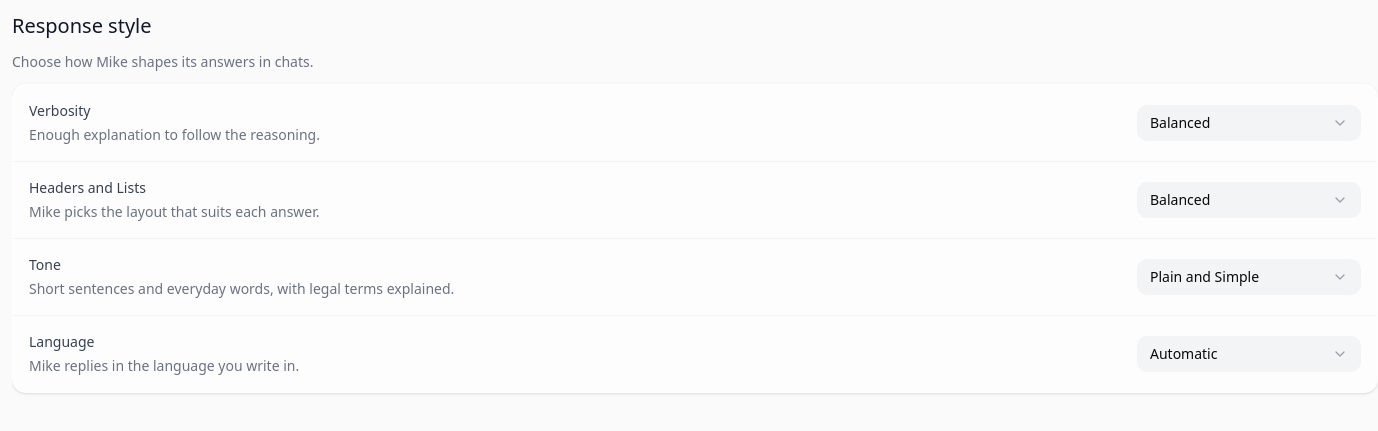
ResponseStyleSection › reverts and explains a failed save on that setting only
This screenshot has width=1378, height=431.
Step 1. Press the mouse on the button with aria-label "Verbosity" → (1249, 123), box [1137,105,1361,141]
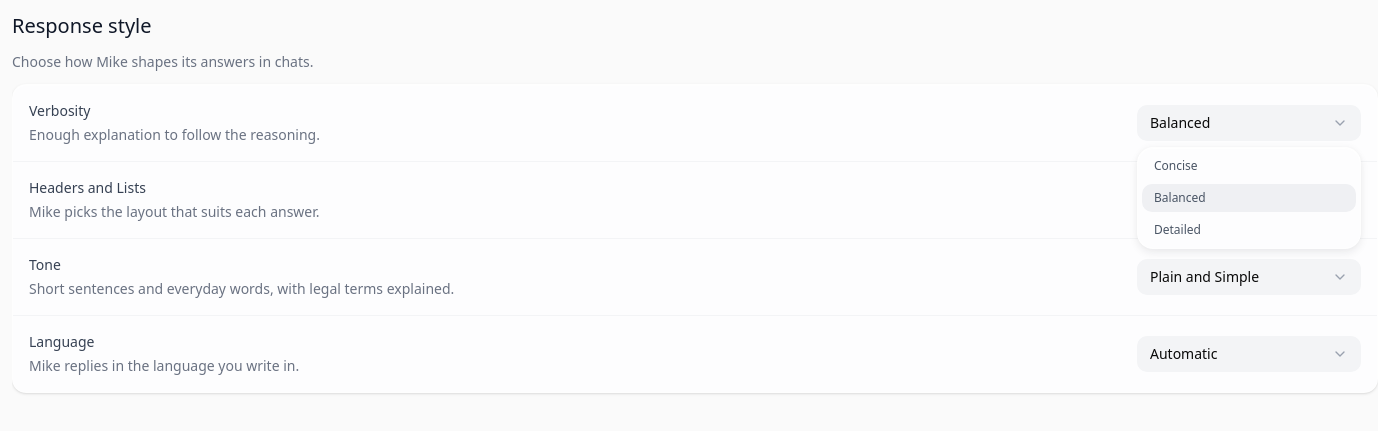
Step 2. Click the menu item "Detailed" → click(1177, 230), box [1154,221,1201,238]
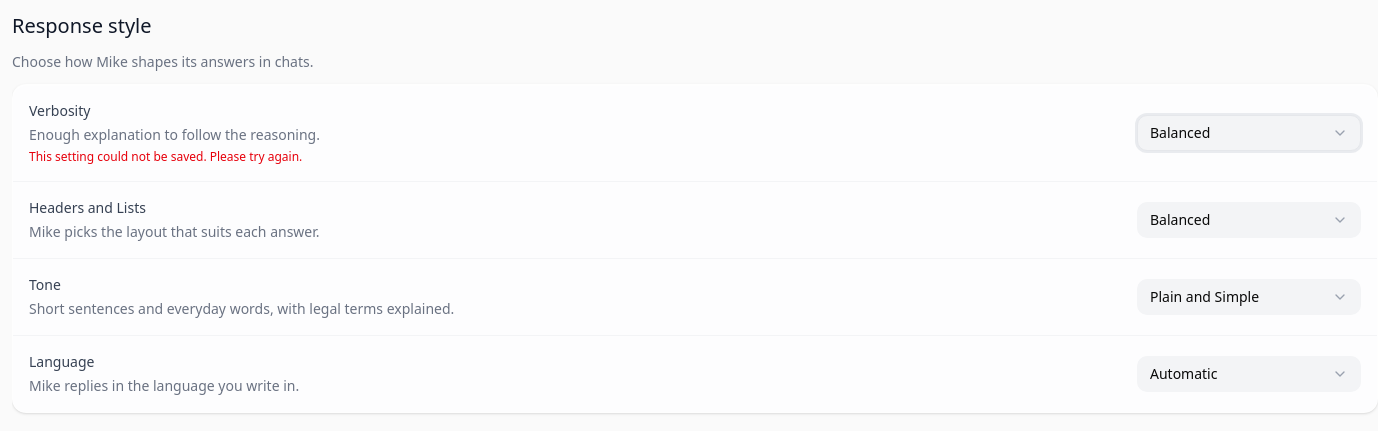
Expected: the button with aria-label "Verbosity" reads "Balanced", [1137,115,1361,151]
Expected: the message shows "could not be saved", [29,148,302,165]
Expected: the number of messages is 1, [29,149,320,165]
